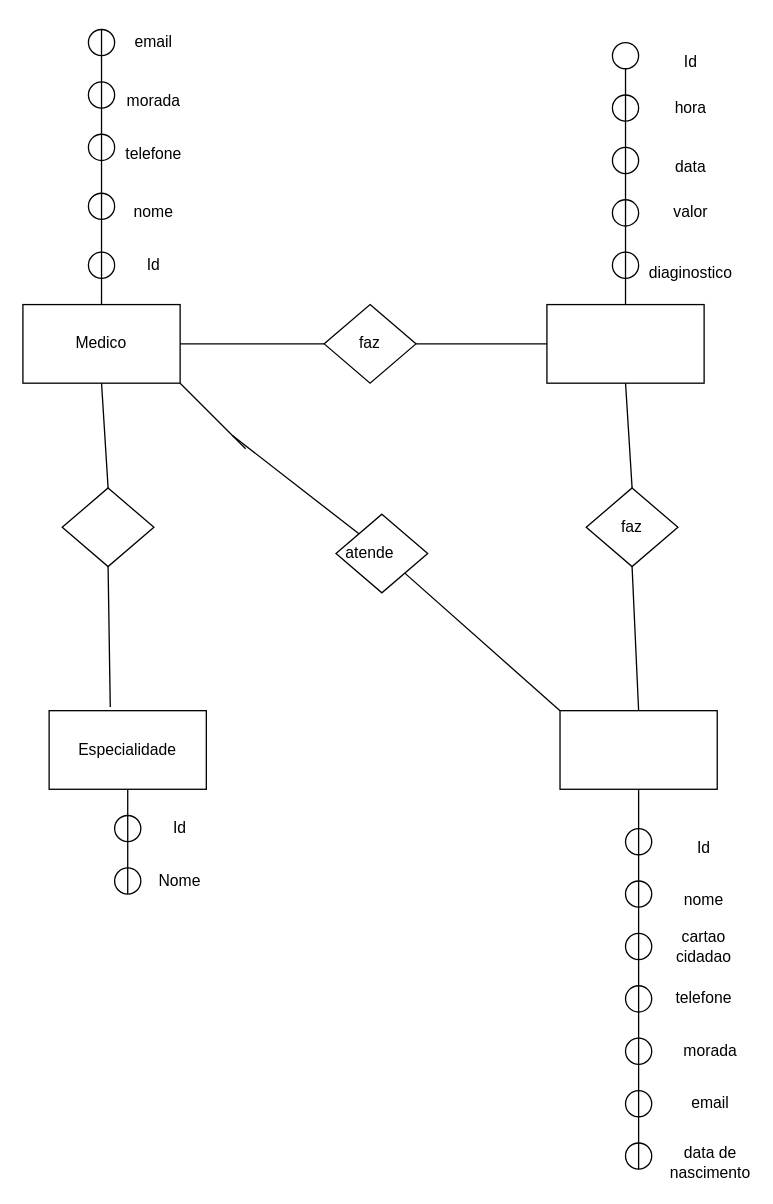
Image size: 773x1204. Some labels were removed from this diagram. Here are the shapes that lost their labels. From the top down, the box of each, then its label:
(546, 303, 704, 383): Consulta
(61, 487, 154, 567): tem
(559, 709, 717, 789): Paciente
